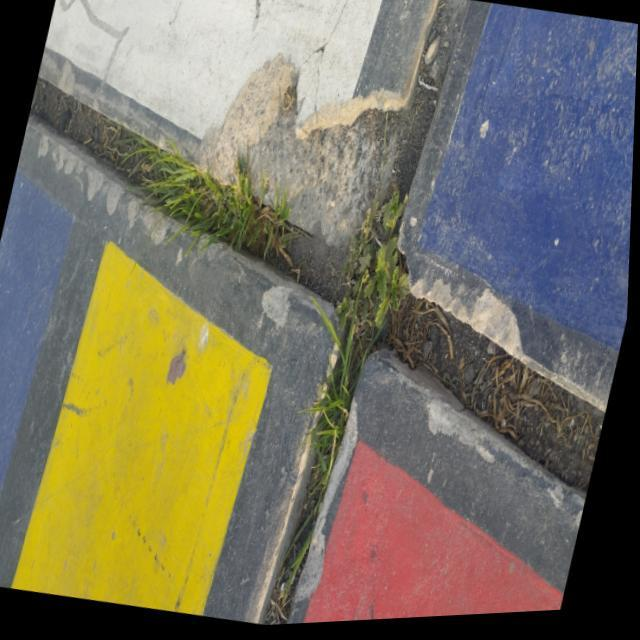hole: (192, 45, 422, 264)
